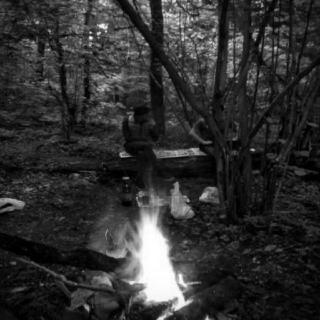Fire: (70, 156, 232, 320)
